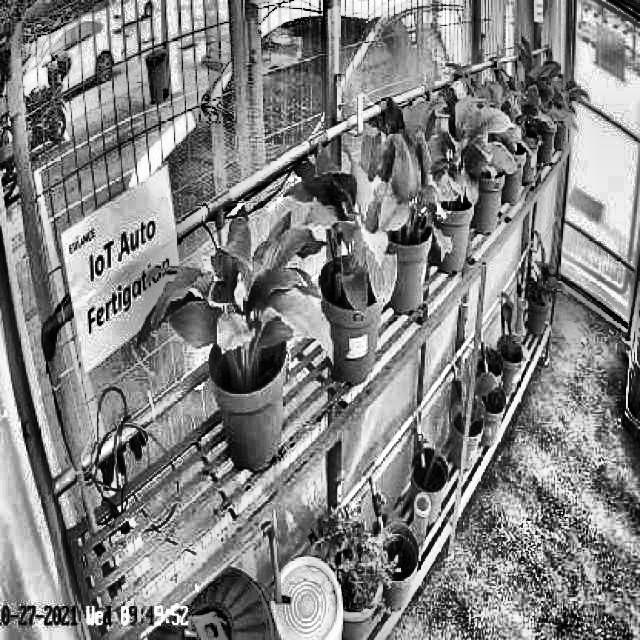plants: (137, 209, 336, 374), (284, 160, 399, 314), (404, 83, 521, 234), (354, 96, 448, 249)
